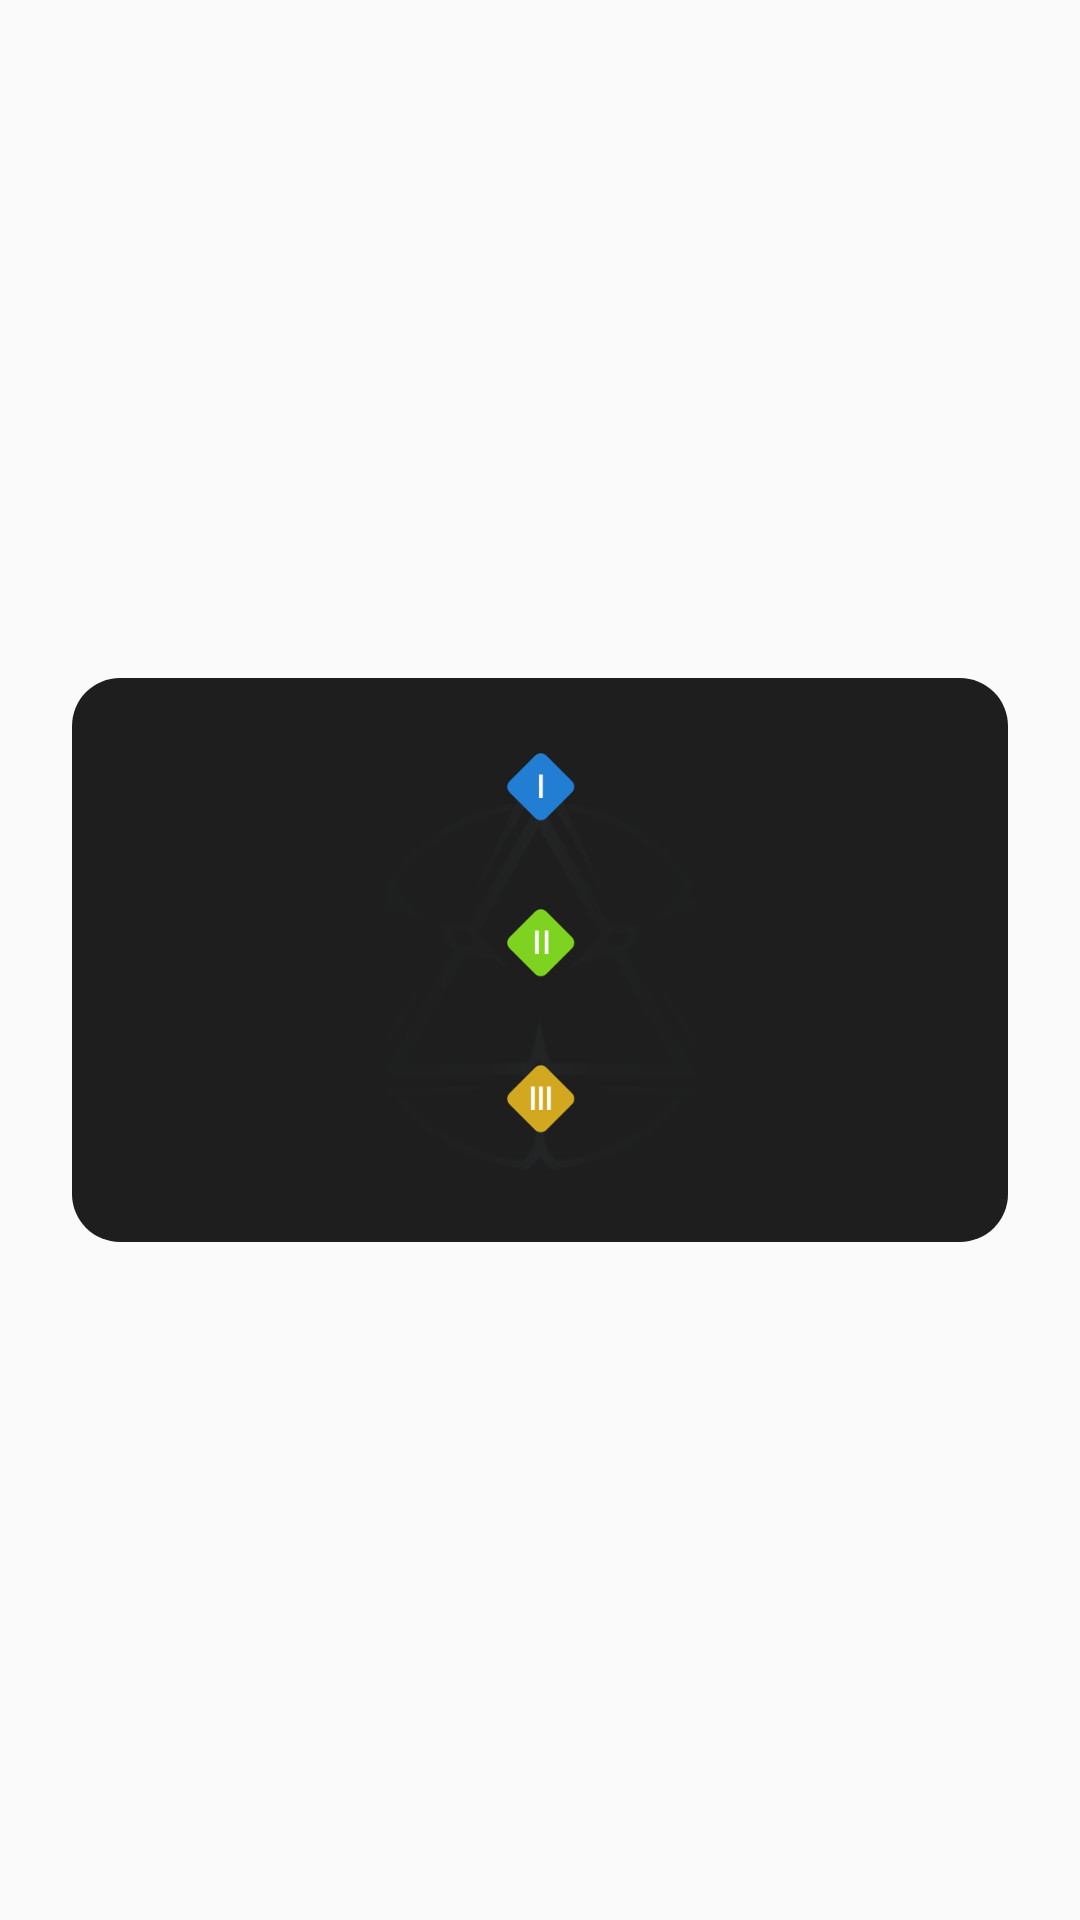

Named icons in this screenshot (1080×1920) and their centers, (x,y):
tier: (541,787), (541,943), (541,1099)
